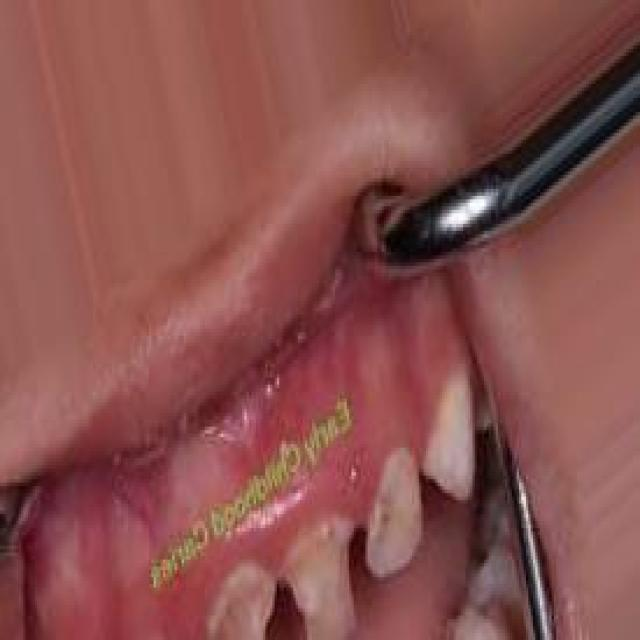caries: (245, 558, 317, 638), (328, 505, 386, 591)
